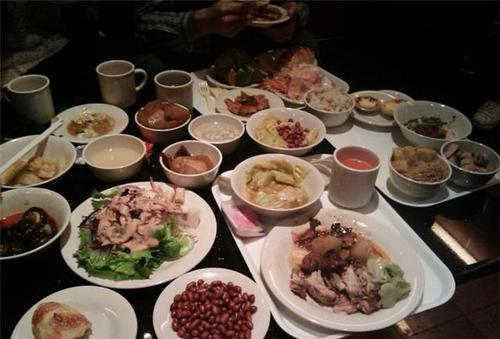food: (273, 200, 428, 326), (67, 170, 207, 285), (157, 265, 269, 335), (1, 184, 72, 272), (226, 149, 326, 211), (246, 101, 326, 157), (393, 96, 467, 150), (386, 139, 449, 202), (156, 137, 224, 189), (53, 97, 124, 146), (439, 136, 496, 190), (134, 95, 192, 144), (301, 78, 353, 126), (190, 109, 243, 155), (220, 84, 281, 117)
